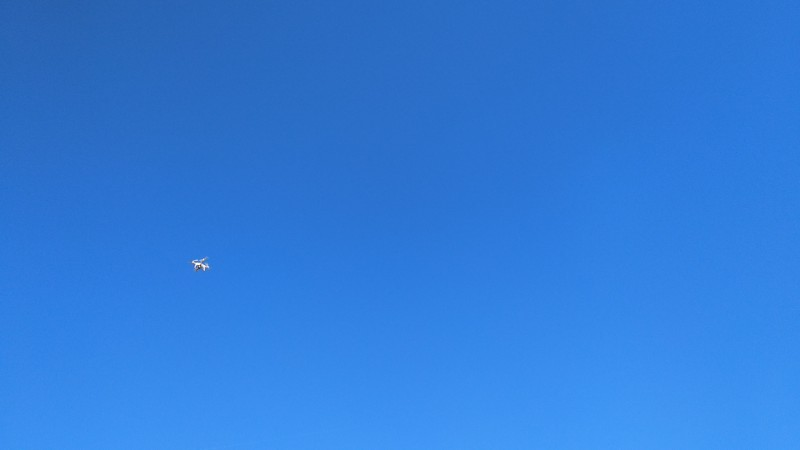drone: (190, 255, 212, 275)
